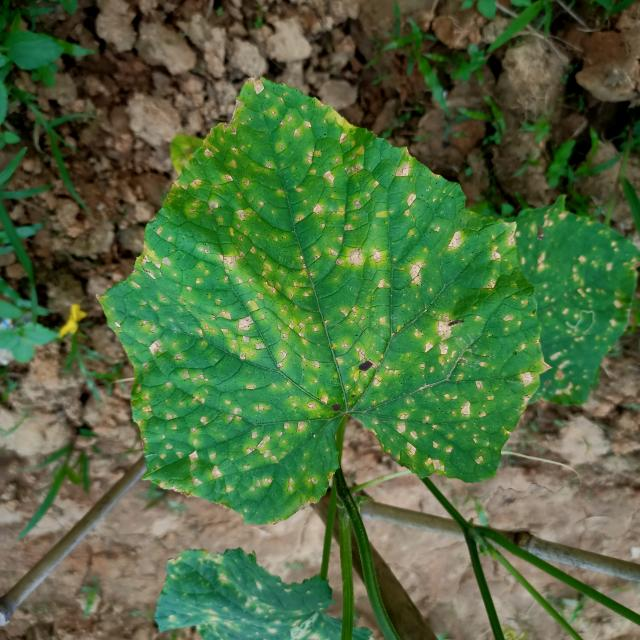disease_cucumber: (119, 102, 514, 493), (513, 206, 638, 406)
